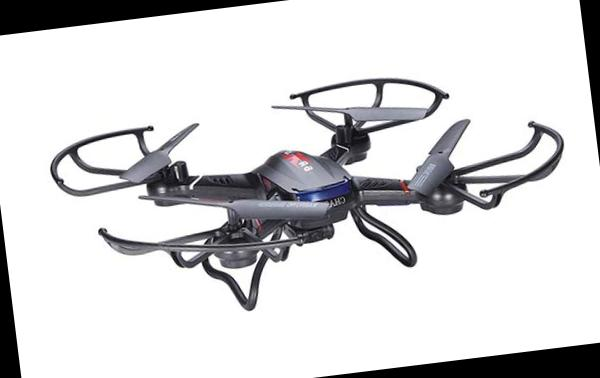drone: (31, 52, 576, 316)
